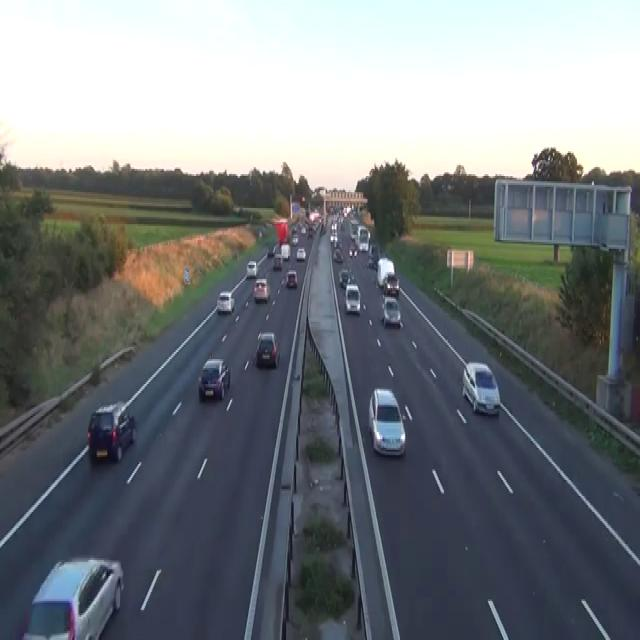Car: (21, 556, 124, 638), (87, 400, 136, 462), (368, 386, 406, 457), (461, 361, 500, 416), (198, 357, 230, 400), (256, 331, 280, 368), (381, 297, 402, 327), (344, 282, 360, 314), (382, 272, 399, 297), (216, 290, 234, 313), (253, 278, 270, 302), (367, 244, 379, 268), (338, 268, 349, 288), (285, 270, 297, 288), (246, 260, 257, 278), (280, 242, 290, 260), (332, 247, 343, 263), (273, 252, 282, 270), (309, 210, 321, 222), (296, 247, 305, 260), (348, 245, 357, 258), (366, 254, 374, 268), (329, 231, 337, 244), (350, 226, 357, 240), (267, 244, 275, 256), (291, 233, 298, 245), (272, 242, 279, 254), (307, 226, 313, 238), (330, 221, 337, 231), (300, 224, 306, 235), (258, 228, 262, 236)
